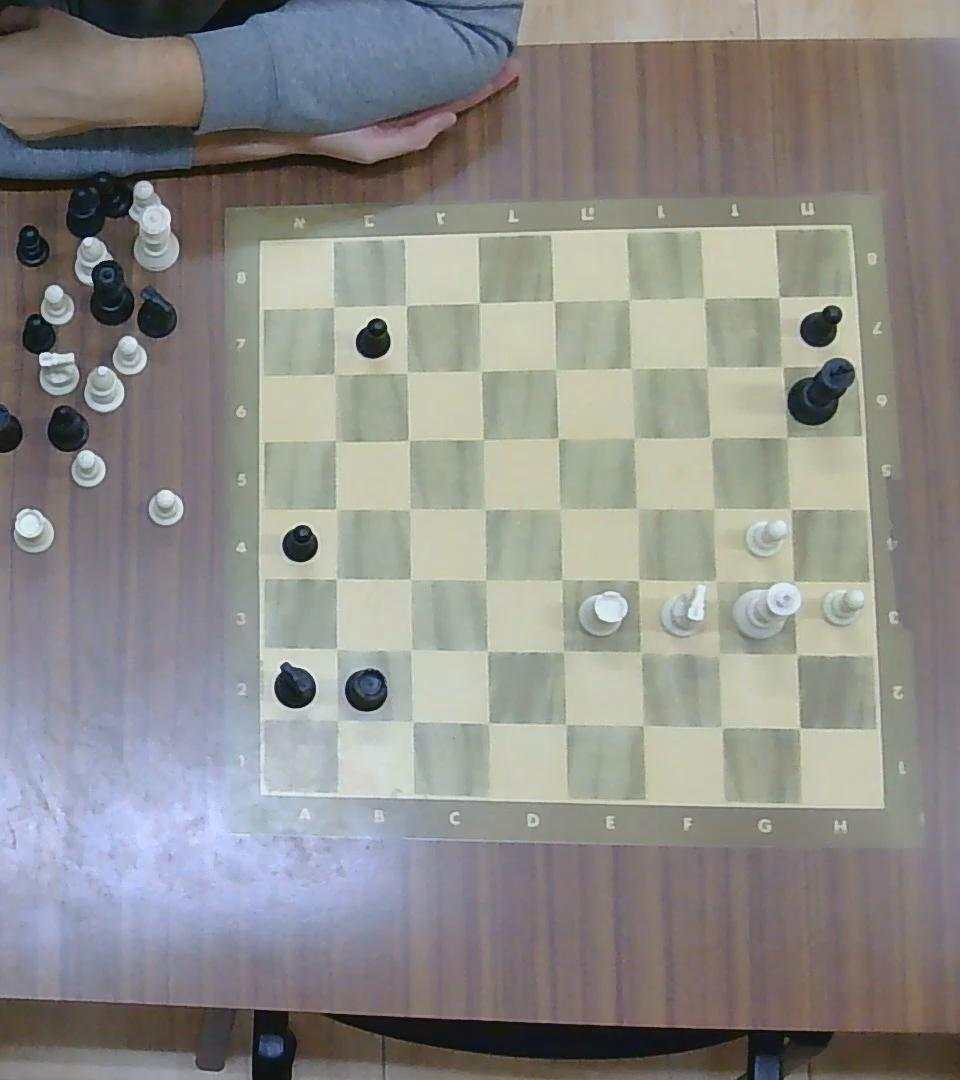xcorner: (704, 710, 738, 743), (701, 638, 735, 670), (621, 562, 654, 594), (320, 703, 354, 734), (548, 706, 580, 738), (471, 706, 503, 738), (626, 707, 658, 739), (776, 565, 810, 595), (625, 635, 656, 667), (547, 635, 578, 667), (783, 711, 814, 743), (781, 637, 812, 668), (396, 705, 428, 735), (698, 492, 728, 523), (547, 563, 577, 594), (622, 492, 652, 523), (320, 634, 351, 664), (471, 636, 501, 666), (700, 565, 730, 595), (470, 564, 500, 593), (615, 284, 645, 313), (776, 493, 806, 522), (470, 493, 499, 522), (395, 635, 424, 664), (547, 494, 575, 524), (621, 422, 649, 451), (543, 353, 571, 382), (469, 424, 497, 453), (540, 286, 568, 314), (619, 352, 647, 380), (693, 352, 722, 379), (318, 293, 346, 320), (546, 423, 573, 450), (396, 494, 423, 521), (698, 423, 725, 450), (396, 565, 423, 592), (772, 422, 800, 448), (396, 425, 422, 452), (467, 356, 493, 383), (692, 285, 719, 311), (324, 496, 351, 522), (769, 353, 797, 378), (323, 427, 349, 453), (323, 565, 349, 591), (393, 358, 420, 383), (393, 291, 419, 316), (466, 289, 491, 314), (323, 361, 348, 384), (767, 285, 791, 308)
